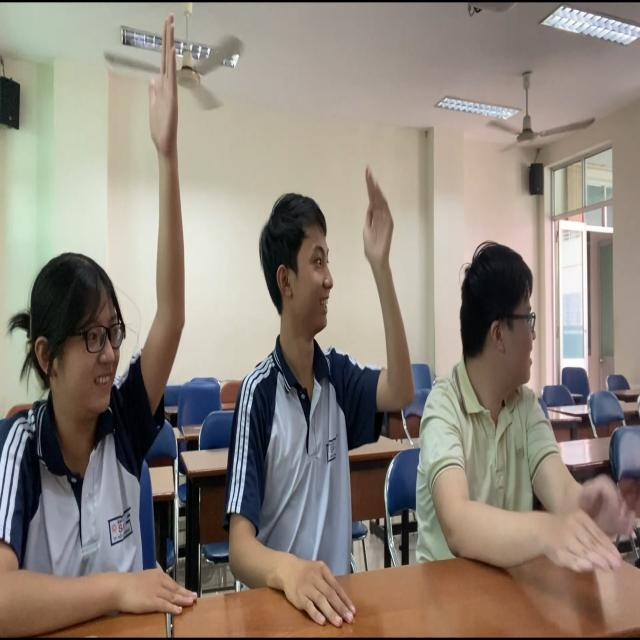raise_hand: (1, 5, 200, 640), (214, 157, 431, 640)
